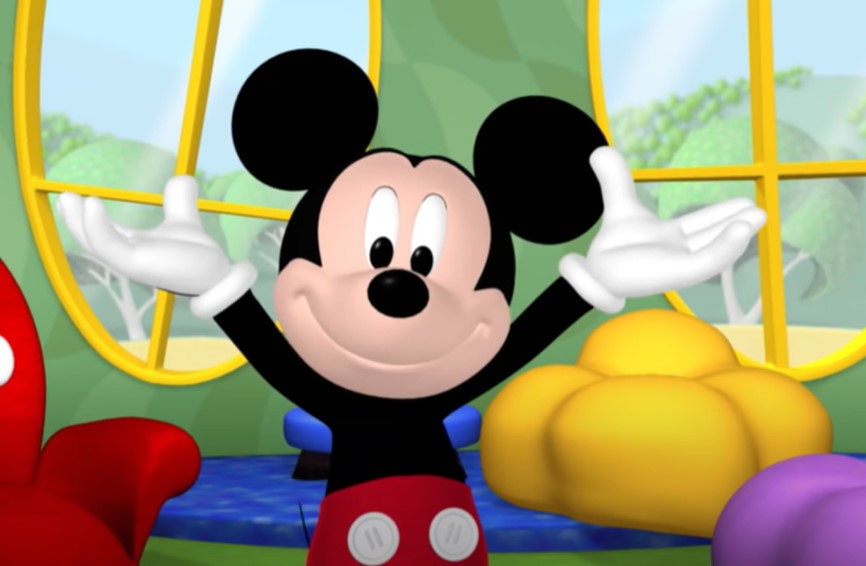mickey: (56, 46, 769, 566)
